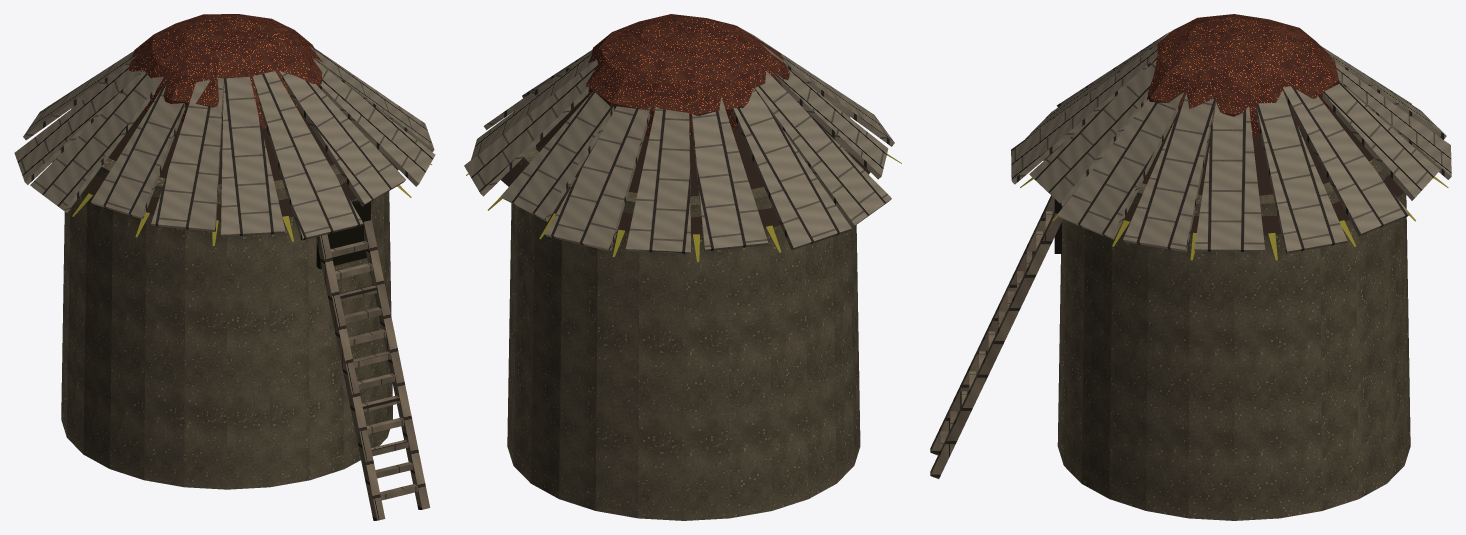
The model's file is AraHut12.glb.
The picture shows the model from 3 angles, left to right: view 1: azimuth 30°, elevation 25°; view 2: azimuth 150°, elevation 25°; view 3: azimuth 270°, elevation 25°; orthographic projection. The views are drawn at different scales.
Parts seen in each view (by area): view 1: AraHut12_gwall; view 2: AraHut12_gwall; view 3: AraHut12_gwall.
Part boxes in pixels (x1,y1,x2,y2): AraHut12_gwall: (14, 14, 435, 520); AraHut12_gwall: (464, 14, 901, 520); AraHut12_gwall: (930, 14, 1451, 520).
Size of the model in its own units: 5.94 by 6.23 by 7.09.
Materials: 7 (4 with a texture image).
